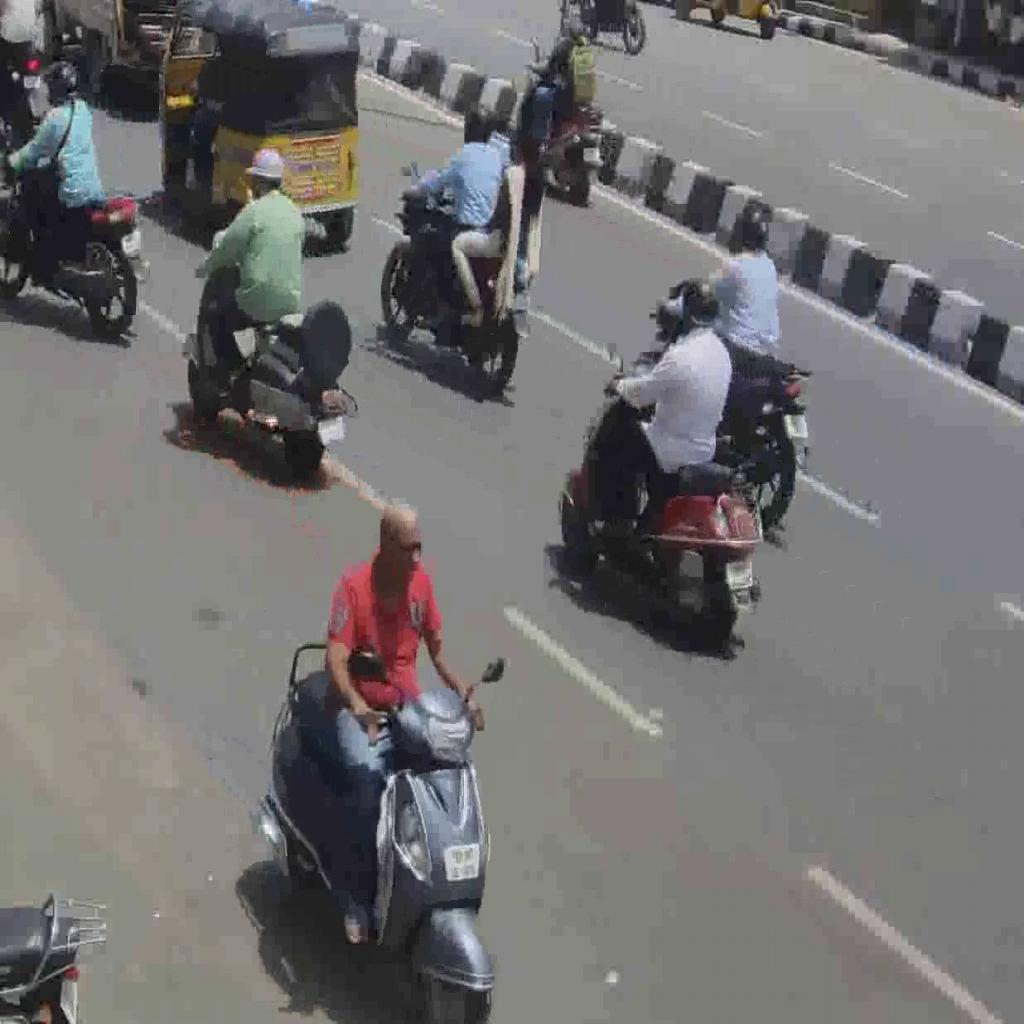helmet: (262, 628, 506, 1022), (558, 356, 762, 652), (630, 272, 811, 530), (181, 227, 355, 474), (379, 163, 532, 394), (1, 146, 149, 338), (512, 54, 605, 204)
